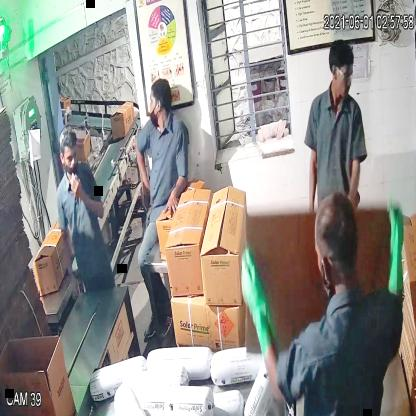goggles: (328, 62, 356, 89)
no_goggles: (56, 146, 82, 167)
